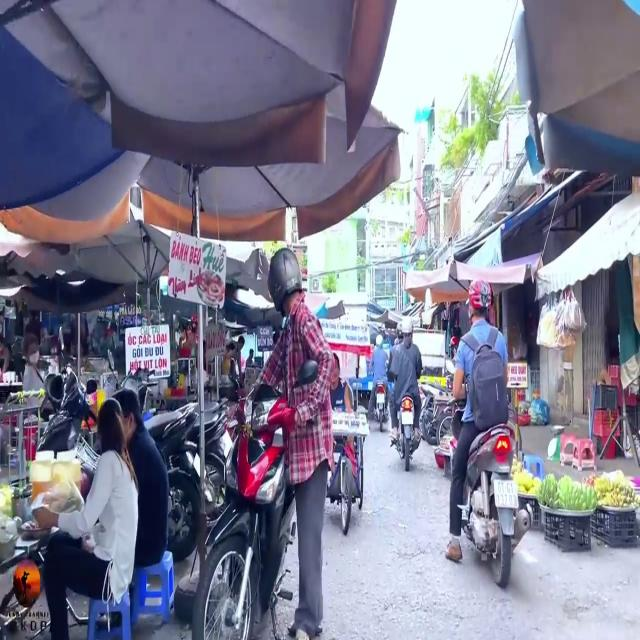bien_trang: (491, 478, 518, 508)
